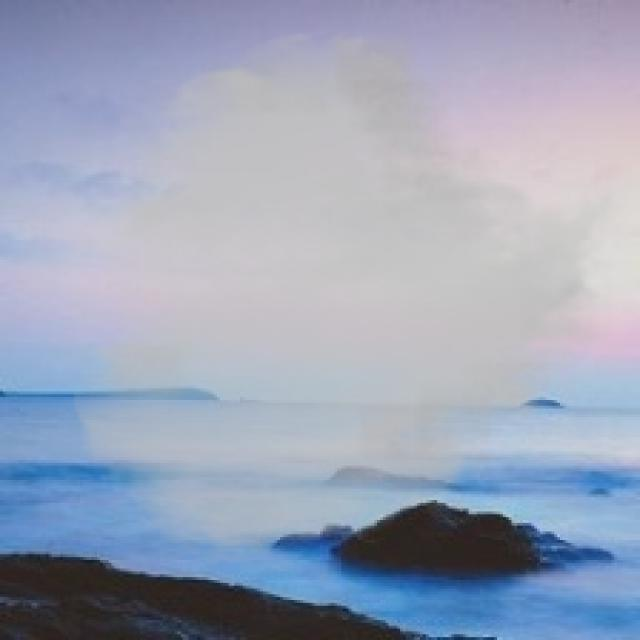smoke: (69, 26, 626, 566)
